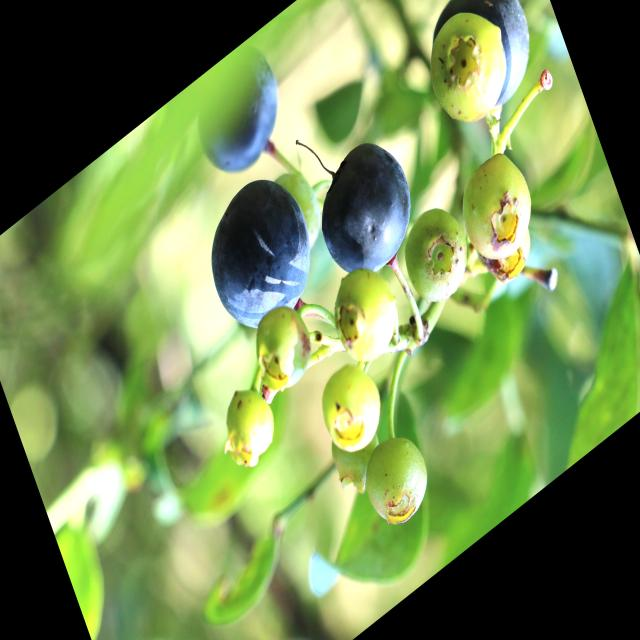blueberry: (192, 161, 327, 357), (302, 119, 427, 300), (177, 32, 297, 196), (424, 0, 546, 136)
blueberry-unripe: (410, 0, 522, 145), (447, 136, 544, 278), (322, 248, 406, 377), (393, 196, 476, 320), (310, 349, 393, 468), (239, 290, 322, 407), (357, 423, 438, 542), (216, 377, 282, 471), (471, 210, 540, 297), (326, 414, 388, 506)
